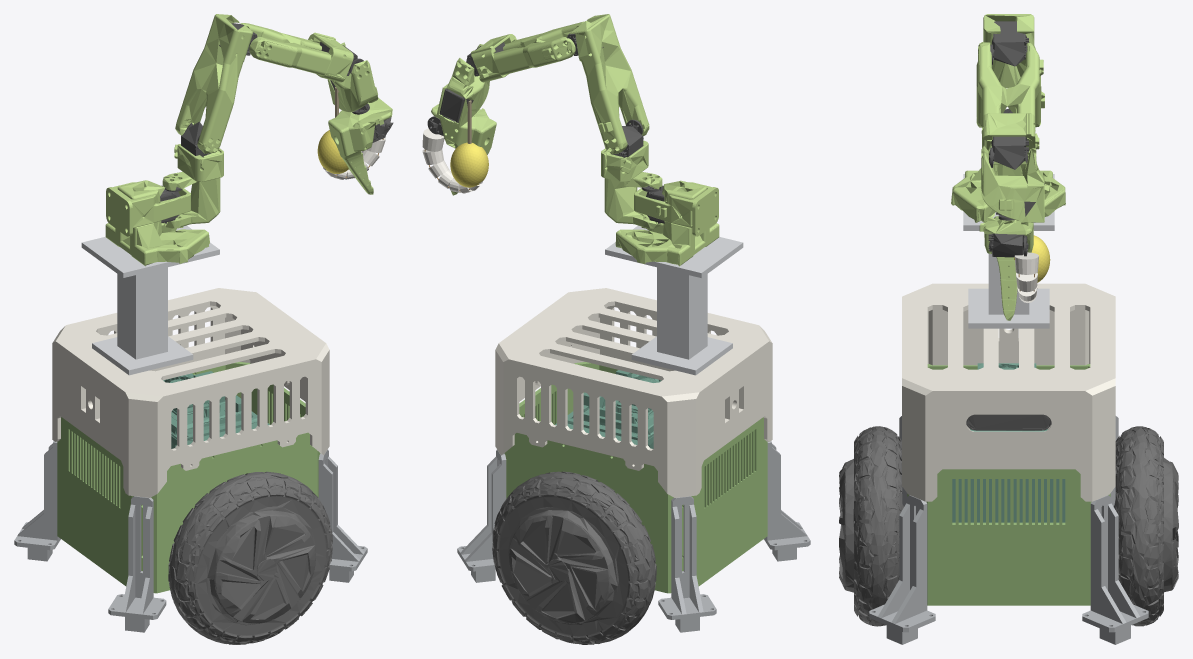
Rendered from via_c_v0_1_dau_xoan.glb.
3 renders of one model, left to right at view 1: azimuth 30°, elevation 25°; view 2: azimuth 150°, elevation 25°; view 3: azimuth 270°, elevation 25°, orthographic. The views are drawn at different scales.
Visible parts, largest first — view 1: base_shell, base_wheel, base_chassis, base_bracket, riser, upper_arm_link_8, base_link_1, gripper_link_15, lower_arm_link_9, shoulder_link_6, wrist_link_13, base_board (+7 smaller); view 2: base_shell, base_wheel, base_chassis, base_bracket, riser, upper_arm_link_8, base_link_1, lower_arm_link_9, shoulder_link_6, base_board, wrist_link_13, base_link_0 (+8 smaller); view 3: base_shell, base_wheel, base_chassis, base_bracket, riser, base_board, wrist_link_13, lower_arm_link_9, upper_arm_link_8, base_link_1, gripper_link_15, lower_arm_link_10 (+6 smaller).
Boxes of the visible parts, box(x1,y1,x2,y2) form: base_shell: box(52, 288, 329, 497); base_wheel: box(168, 471, 332, 644); base_chassis: box(57, 361, 320, 593); base_bracket: box(14, 440, 367, 632); riser: box(81, 225, 219, 375); upper_arm_link_8: box(175, 14, 253, 153); base_link_1: box(105, 180, 209, 266); gripper_link_15: box(328, 97, 392, 194); lower_arm_link_9: box(240, 23, 331, 75); shoulder_link_6: box(162, 150, 220, 228); wrist_link_13: box(327, 42, 378, 112); base_board: box(163, 371, 269, 448); base_shell: box(495, 288, 772, 497); base_wheel: box(492, 471, 656, 644); base_chassis: box(504, 362, 767, 593); base_bracket: box(457, 441, 810, 632); riser: box(605, 225, 743, 375); upper_arm_link_8: box(570, 14, 649, 154); base_link_1: box(615, 180, 719, 266); lower_arm_link_9: box(493, 21, 584, 75); shoulder_link_6: box(604, 150, 662, 228); base_board: box(555, 370, 661, 448); wrist_link_13: box(436, 44, 489, 127); base_link_0: box(634, 182, 712, 227); base_shell: box(902, 283, 1115, 501); base_wheel: box(839, 426, 1178, 626); base_chassis: box(907, 364, 1110, 605); base_bracket: box(869, 416, 1148, 644); riser: box(963, 174, 1054, 328); base_board: box(952, 363, 1065, 522); wrist_link_13: box(981, 146, 1044, 225); lower_arm_link_9: box(978, 42, 1043, 154); upper_arm_link_8: box(976, 14, 1044, 127); base_link_1: box(951, 168, 1065, 222); gripper_link_15: box(979, 216, 1033, 320); lower_arm_link_10: box(982, 113, 1039, 157).
Size of the model in its own units: 0.411 by 0.6765 by 0.3342.
